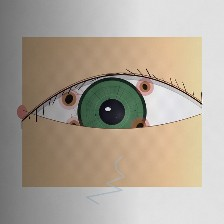foreign_body_visible: (119, 110, 161, 144)
